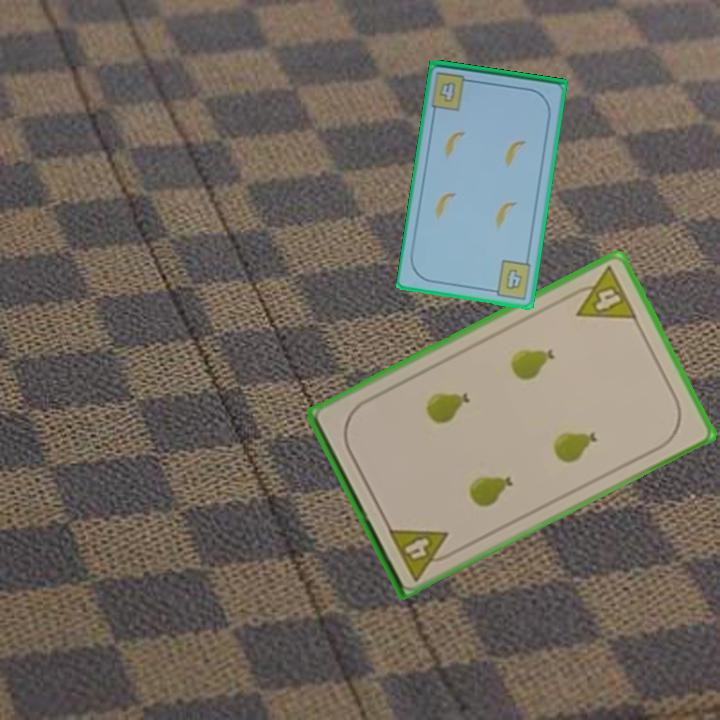4b: (486, 256, 534, 302), (436, 78, 459, 106)
4p: (563, 262, 640, 323), (384, 523, 459, 584)
